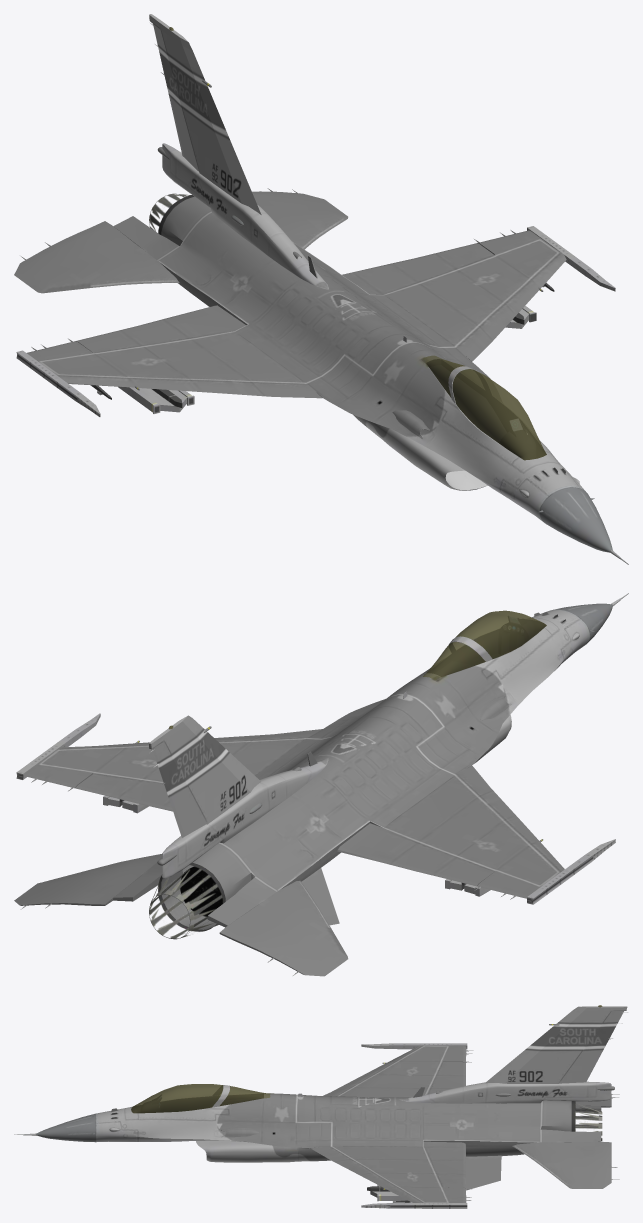
3 renders of one model, top to bottom at view 1: azimuth 30°, elevation 25°; view 2: azimuth 150°, elevation 25°; view 3: azimuth 270°, elevation 25°, orthographic. The views are drawn at different scales.
Visible parts, largest first — view 1: defaultMaterial; view 2: defaultMaterial; view 3: defaultMaterial.
Part boxes in pixels (x1,y1,x2,y2): defaultMaterial: (14, 14, 628, 564); defaultMaterial: (14, 593, 628, 976); defaultMaterial: (14, 1005, 627, 1208).
Bounding box in the file's own units: 1.24 × 0.6067 × 2.
Materials: 1 (1 with a texture image).
